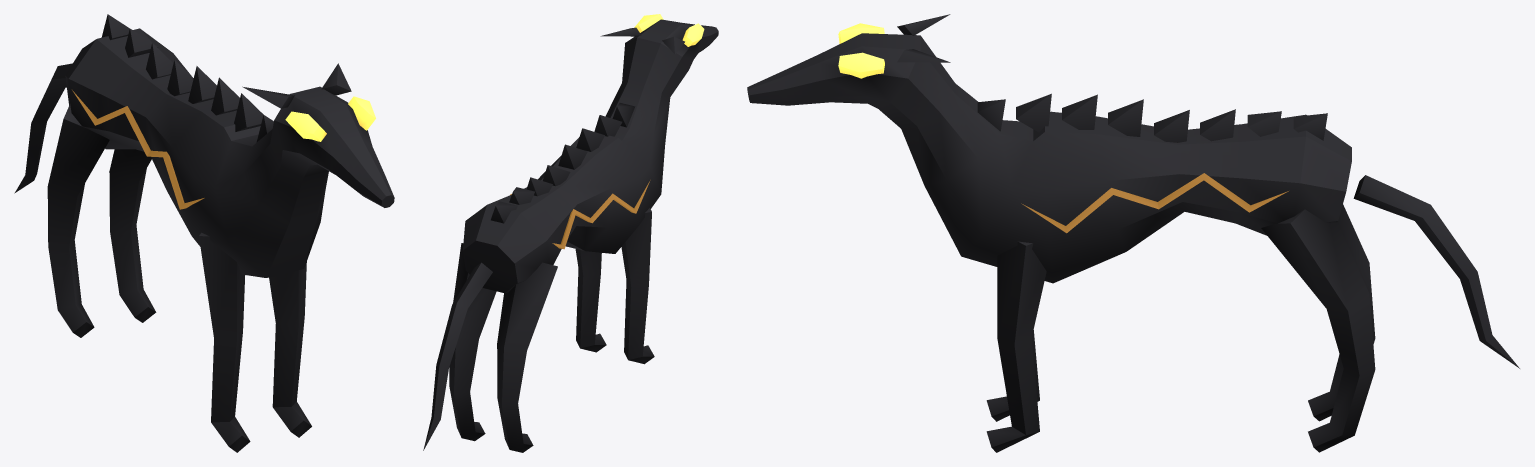
File: hound.glb
3 views of the same model, side by side, from view 1: azimuth 30°, elevation 25°; view 2: azimuth 150°, elevation 25°; view 3: azimuth 270°, elevation 25° (orthographic). The views are drawn at different scales.
Visible parts, largest first — view 1: hound; view 2: hound; view 3: hound.
Part boxes in pixels (bbox=[...]): hound: bbox=[14, 14, 394, 452]; hound: bbox=[423, 14, 718, 452]; hound: bbox=[747, 14, 1519, 452].
Size of the model in its own units: 0.258 by 0.7667 by 1.34.
